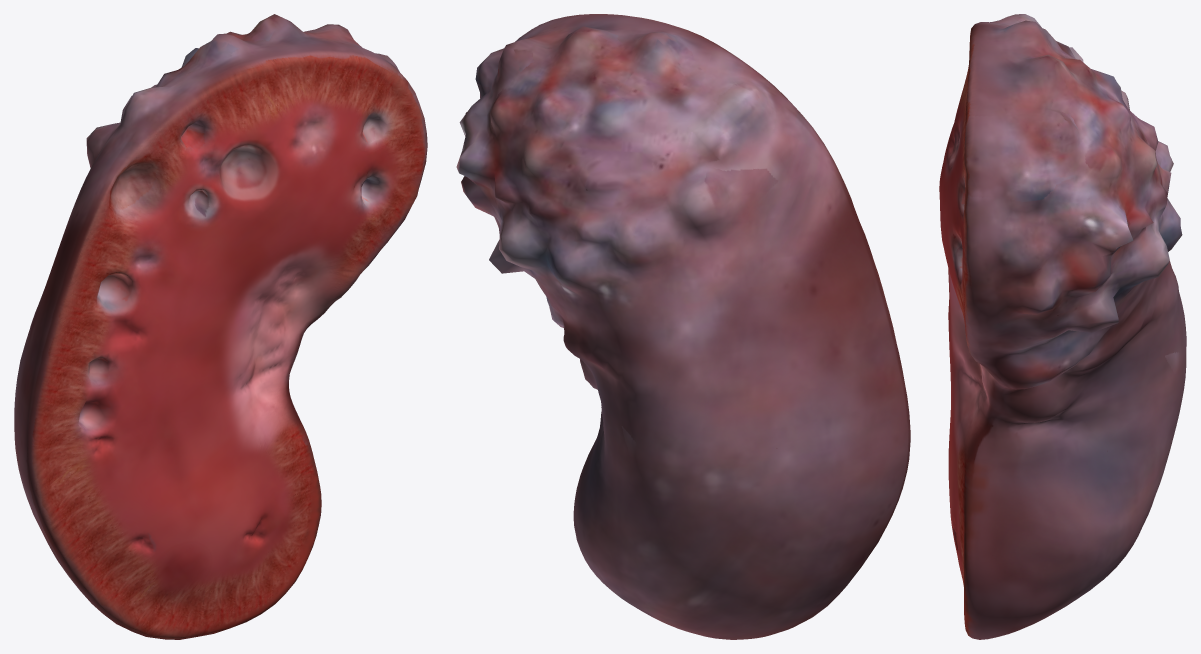
Rendered from 8_kist.glb.
3 renders of one model, left to right at view 1: azimuth 30°, elevation 25°; view 2: azimuth 150°, elevation 25°; view 3: azimuth 270°, elevation 25°, orthographic. The views are drawn at different scales.
Visible parts, largest first — view 1: kistbobrek; view 2: kistbobrek; view 3: kistbobrek.
Part boxes in pixels (bbox=[...]): kistbobrek: bbox=[14, 14, 427, 639]; kistbobrek: bbox=[456, 14, 910, 639]; kistbobrek: bbox=[939, 14, 1186, 639].
Size of the model in its own units: 0.4308 by 0.5828 by 0.2108.
Materials: 1 (1 with a texture image).
